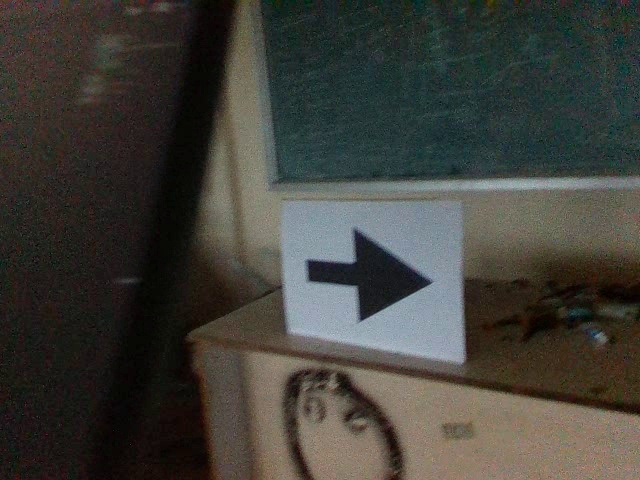Right: (300, 221, 439, 329)
